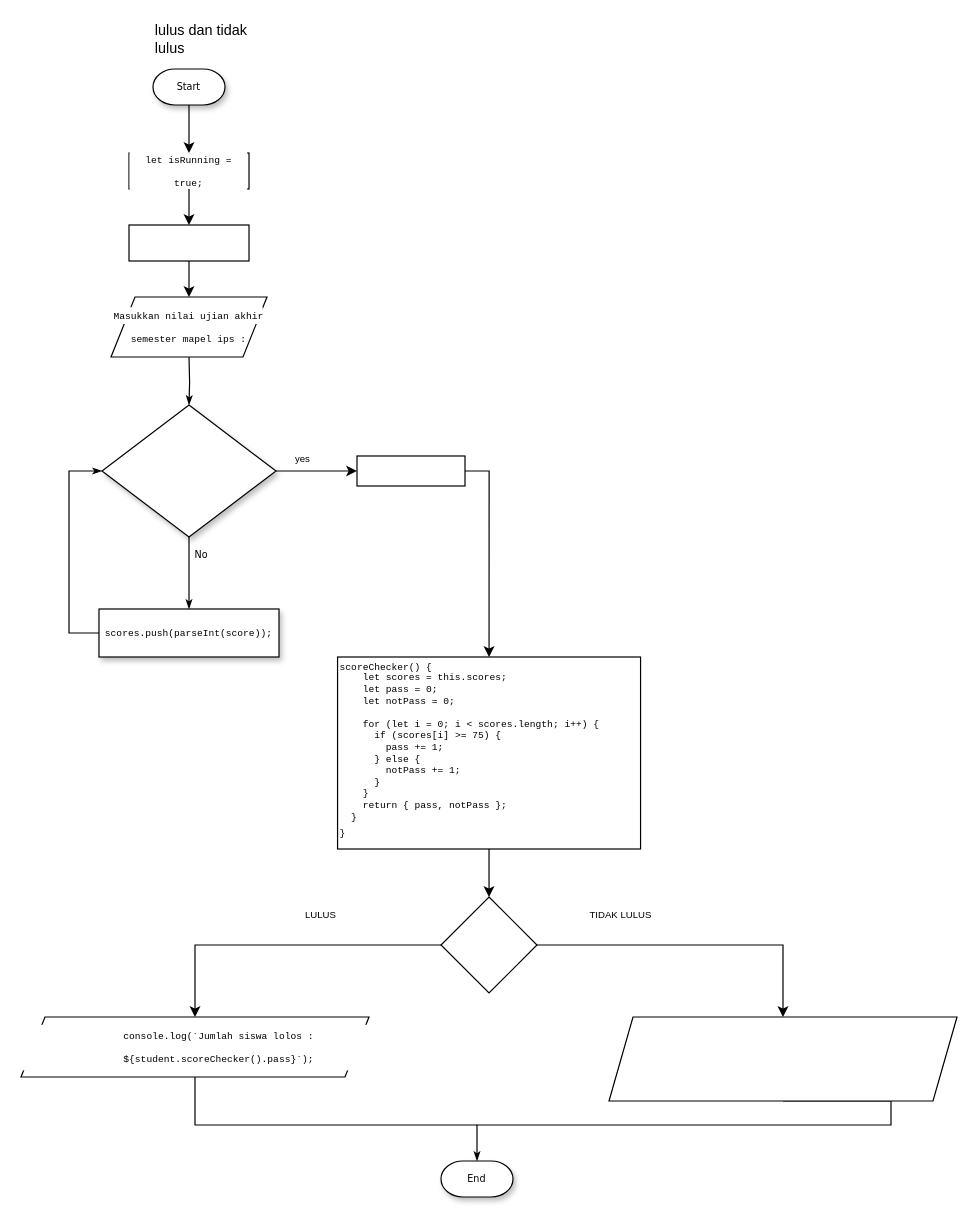
Some shapes in this 978 by 1226 pixel diagram are drawn without their labels. The centre of each missing label's shape, as x and y in pixels:
"console.log(`Jumlah siswa tidak lolos : ${student.scoreChecker().notPass}`);" belongs at point 782,1058.
"if (score.toLowerCase() === 'q')" belongs at point 189,472.
"isRunning = false;" belongs at point 410,470.
"while(isRunning)" belongs at point 188,242.
